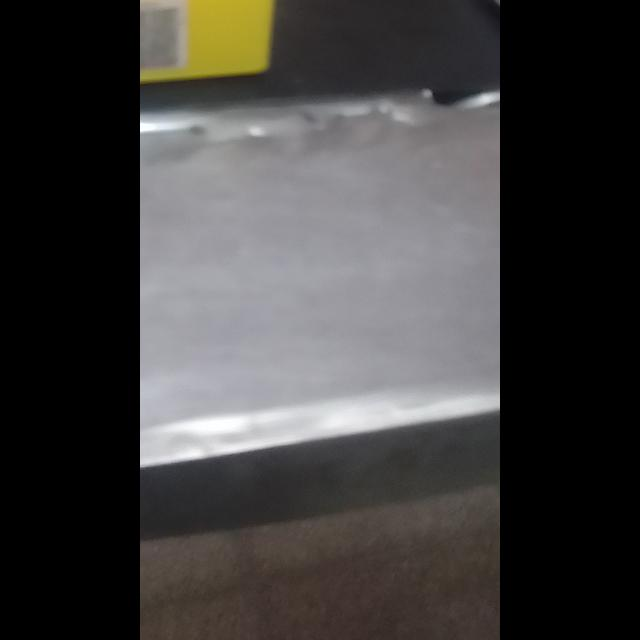yellowBox: (140, 0, 294, 114)
